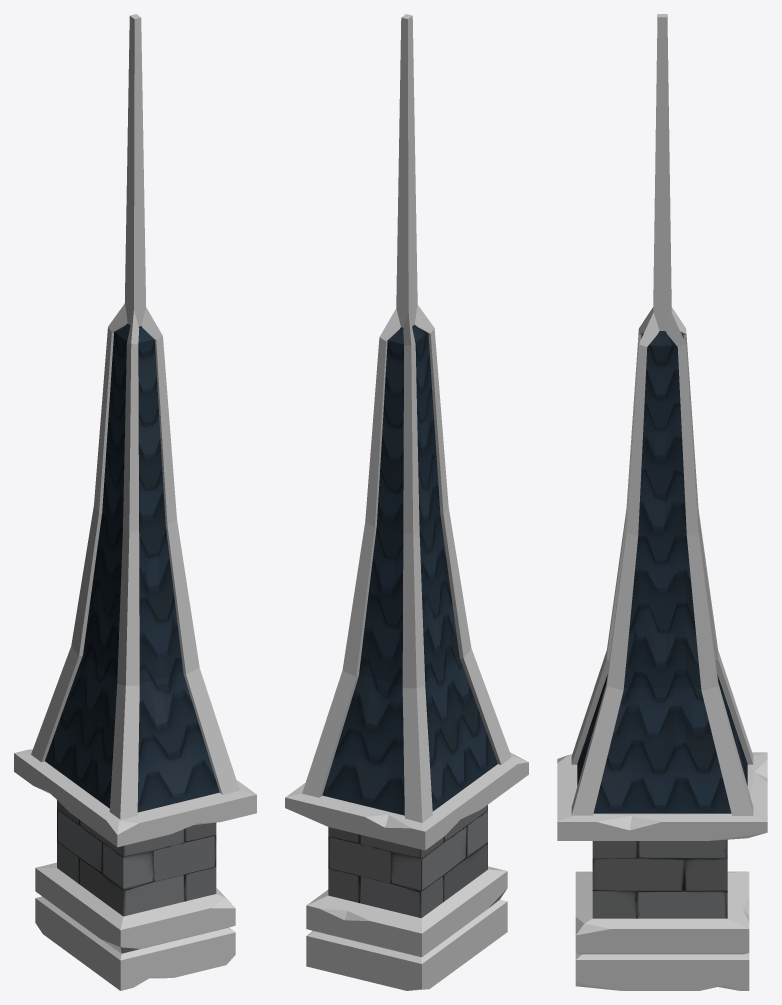
Rendered from SM_Bld_Buttress_Pillar_Cap_01.fbx.
3 renders of one model, left to right at view 1: azimuth 30°, elevation 25°; view 2: azimuth 150°, elevation 25°; view 3: azimuth 270°, elevation 25°, orthographic.
Visible parts, largest first — view 1: SM_Bld_Buttress_Pillar_Cap_01; view 2: SM_Bld_Buttress_Pillar_Cap_01; view 3: SM_Bld_Buttress_Pillar_Cap_01.
Part boxes in pixels (left/top/right/bottom): SM_Bld_Buttress_Pillar_Cap_01: left=14, top=14, right=256, bottom=990; SM_Bld_Buttress_Pillar_Cap_01: left=285, top=14, right=528, bottom=990; SM_Bld_Buttress_Pillar_Cap_01: left=557, top=14, right=767, bottom=990.
Bounding box in the file's own units: 119 × 759 × 153.
